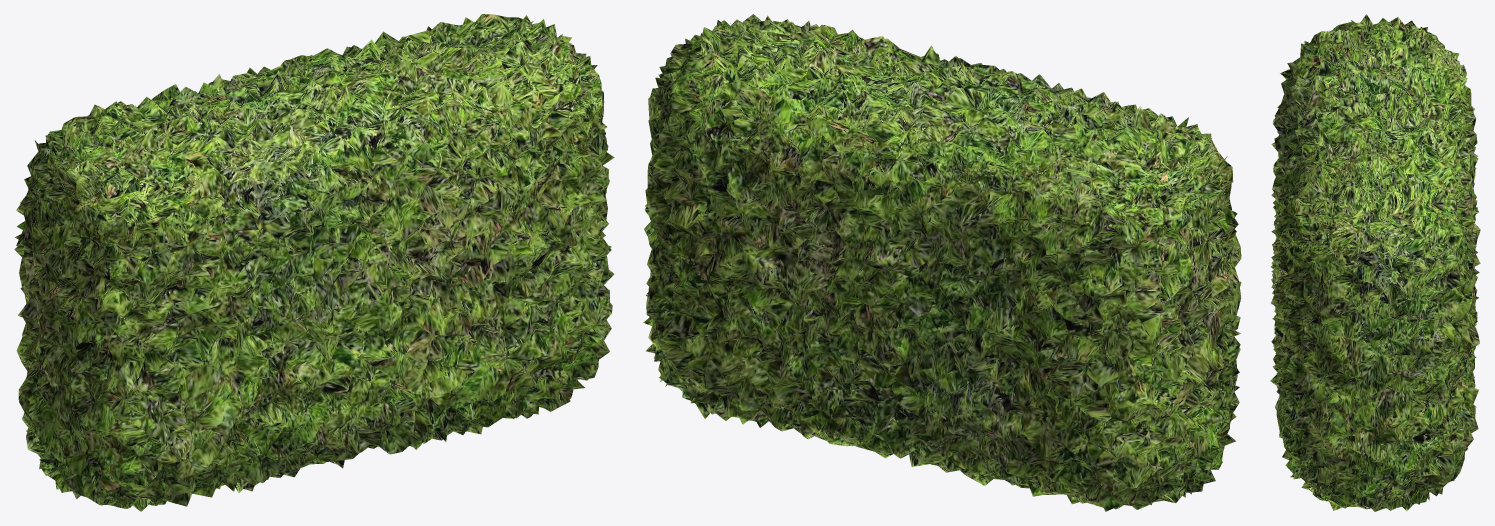
File: hedgeTextured.obj
The picture shows the model from 3 angles, left to right: view 1: azimuth 30°, elevation 25°; view 2: azimuth 150°, elevation 25°; view 3: azimuth 270°, elevation 25°; orthographic projection. The views are drawn at different scales.
Parts seen in each view (by area): view 1: Cube.001; view 2: Cube.001; view 3: Cube.001.
Part boxes in pixels (bbox=[...]): Cube.001: bbox=[14, 14, 614, 511]; Cube.001: bbox=[643, 14, 1241, 511]; Cube.001: bbox=[1270, 14, 1480, 511].
Size of the model in its own units: 155 by 100 by 59.38.
